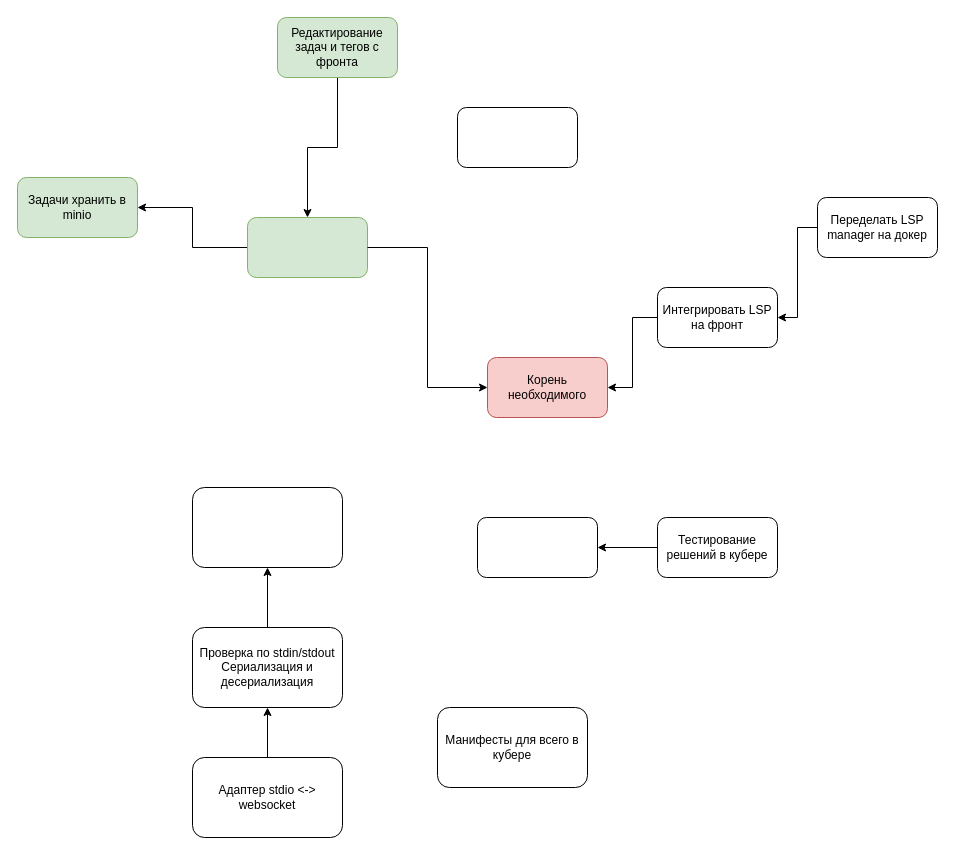
Some shapes in this 955 by 855 pixel diagram are drawn without their labels. The shapes that lost their labels are listed below. From the top down, each one's box as (x1, y1, x2, y2) in pixels, then its label:
(456, 106, 578, 168): Простейшие роли для задач, тегов
(246, 216, 368, 278): Хранение метаданных задач и тегов в БД
(192, 486, 342, 568): Для кубера нужны особенные задачи
(476, 516, 598, 578): Кубер не подходит для разработки.
